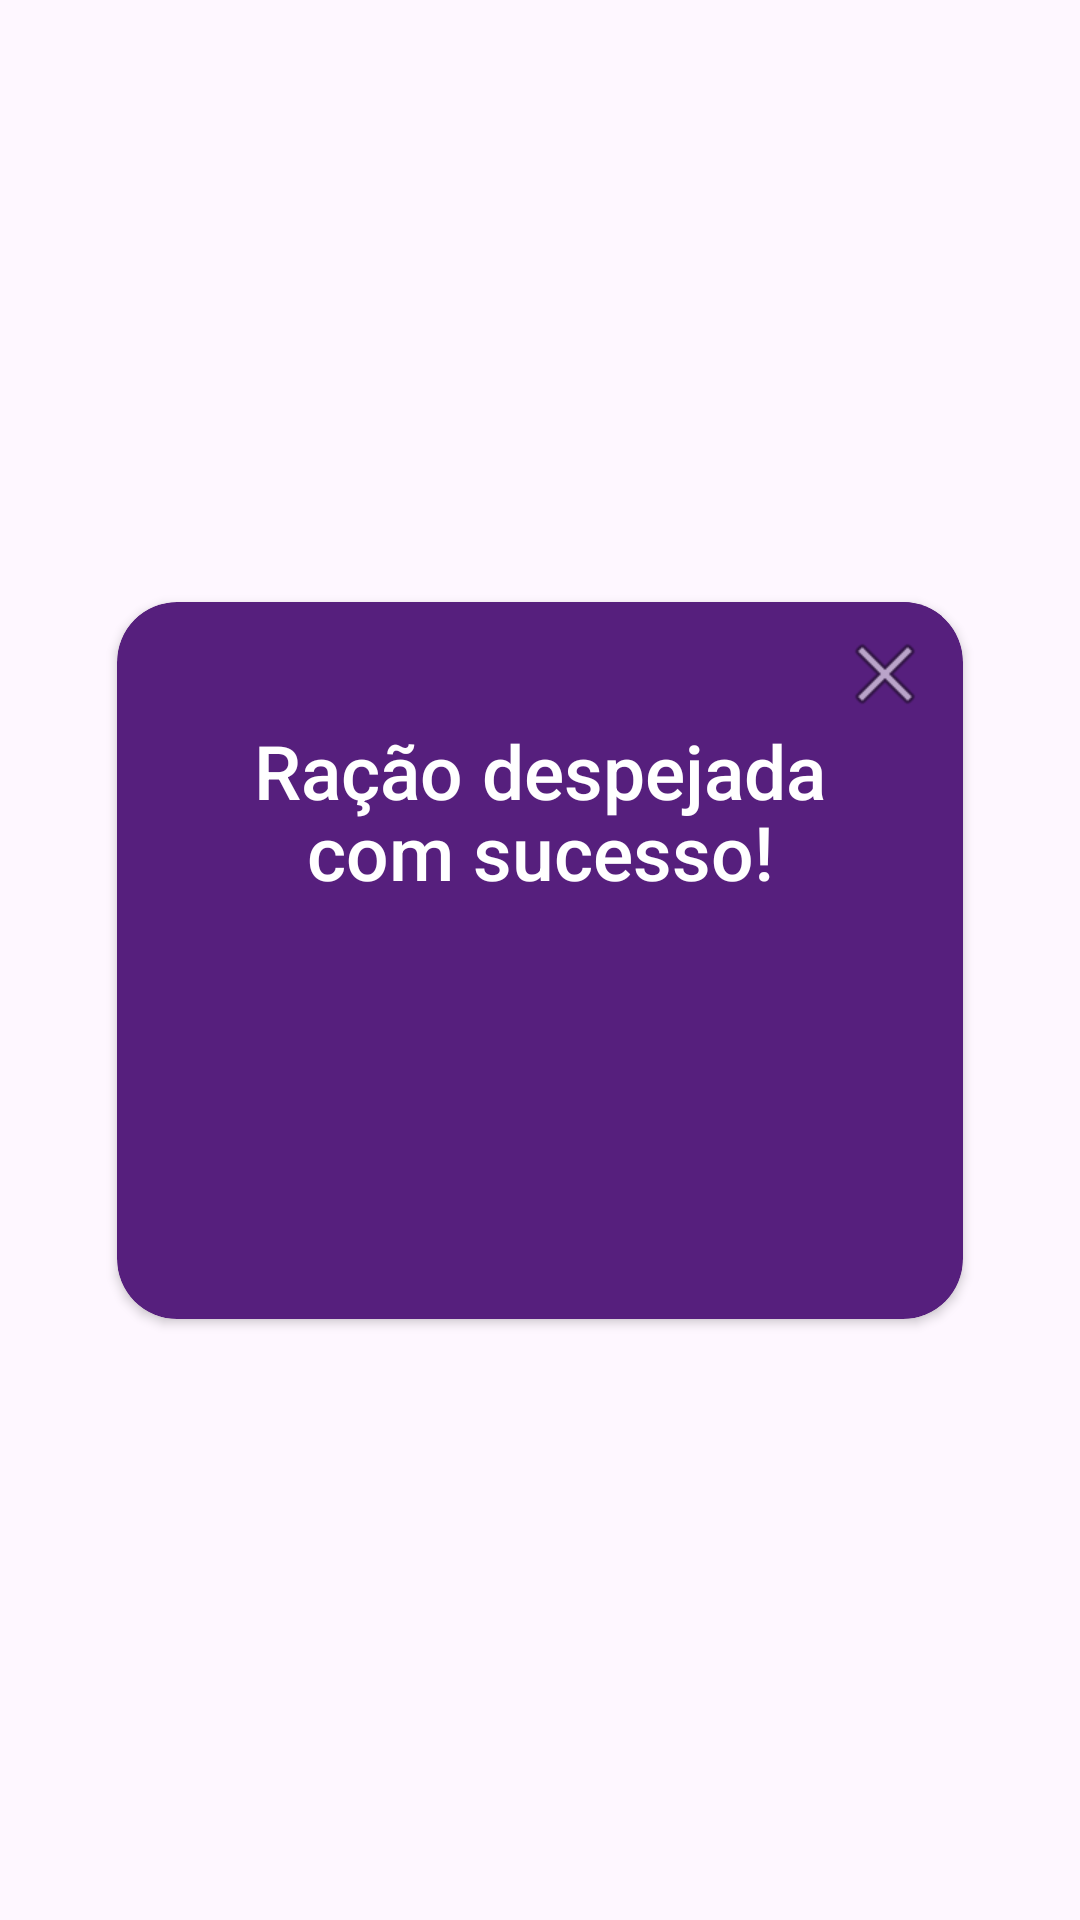

Where icons sit on this 1080*1920 app screen, as (x1, y1, x2, y2):
close clear cancel: (856, 644, 915, 703)
